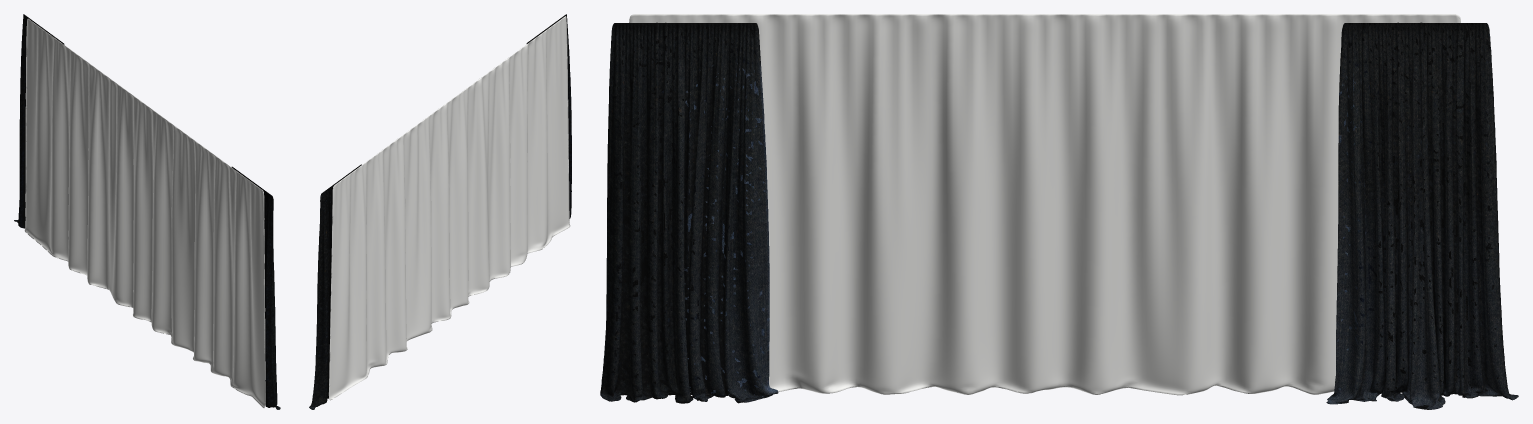
Rendered from furniture_1.glb.
3 renders of one model, left to right at view 1: azimuth 30°, elevation 25°; view 2: azimuth 150°, elevation 25°; view 3: azimuth 270°, elevation 25°, orthographic. The views are drawn at different scales.
Visible parts, largest first — view 1: GF_Plane01, GF_Plane02; view 2: GF_Plane01, GF_Plane02; view 3: GF_Plane01, GF_Plane02.
Part boxes in pixels (bbox=[...]): GF_Plane01: bbox=[24, 18, 265, 407]; GF_Plane02: bbox=[14, 14, 280, 409]; GF_Plane01: bbox=[328, 16, 570, 400]; GF_Plane02: bbox=[309, 14, 571, 409]; GF_Plane01: bbox=[629, 14, 1460, 395]; GF_Plane02: bbox=[600, 22, 1518, 409].
Bounding box in the file's own units: 0.3652 × 2.76 × 6.06.
2 materials, 1 textured.
